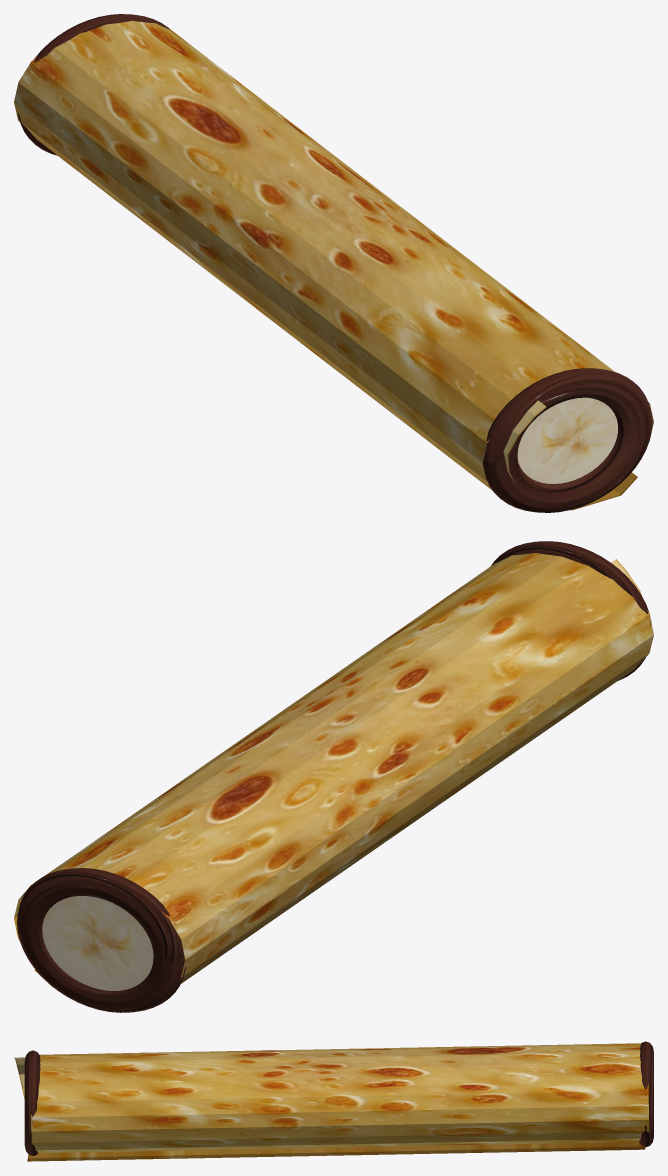
File: crepe.glb
3 views of the same model, one above another, from view 1: azimuth 30°, elevation 25°; view 2: azimuth 150°, elevation 25°; view 3: azimuth 270°, elevation 25° (orthographic). The views are drawn at different scales.
Parts seen in each view (by area): view 1: Cylinder, Torus.001, Cylinder.002, Torus; view 2: Cylinder, Torus, Cylinder.001, Torus.001; view 3: Cylinder, Torus.001, Torus.
Part boxes in pixels (<box>): Cylinder: <box>14,20,653,510</box>; Torus.001: <box>483,368,652,512</box>; Cylinder.002: <box>517,397,618,483</box>; Torus: <box>18,14,169,155</box>; Cylinder: <box>14,553,653,987</box>; Torus: <box>17,868,185,1012</box>; Cylinder.001: <box>42,896,153,990</box>; Torus.001: <box>491,541,651,680</box>; Cylinder: <box>14,1043,649,1161</box>; Torus.001: <box>24,1050,40,1156</box>; Torus: <box>639,1041,653,1146</box>.
Size of the model in its own units: 1.09 by 0.925 by 5.36.
Materials: 5 (5 with a texture image).
